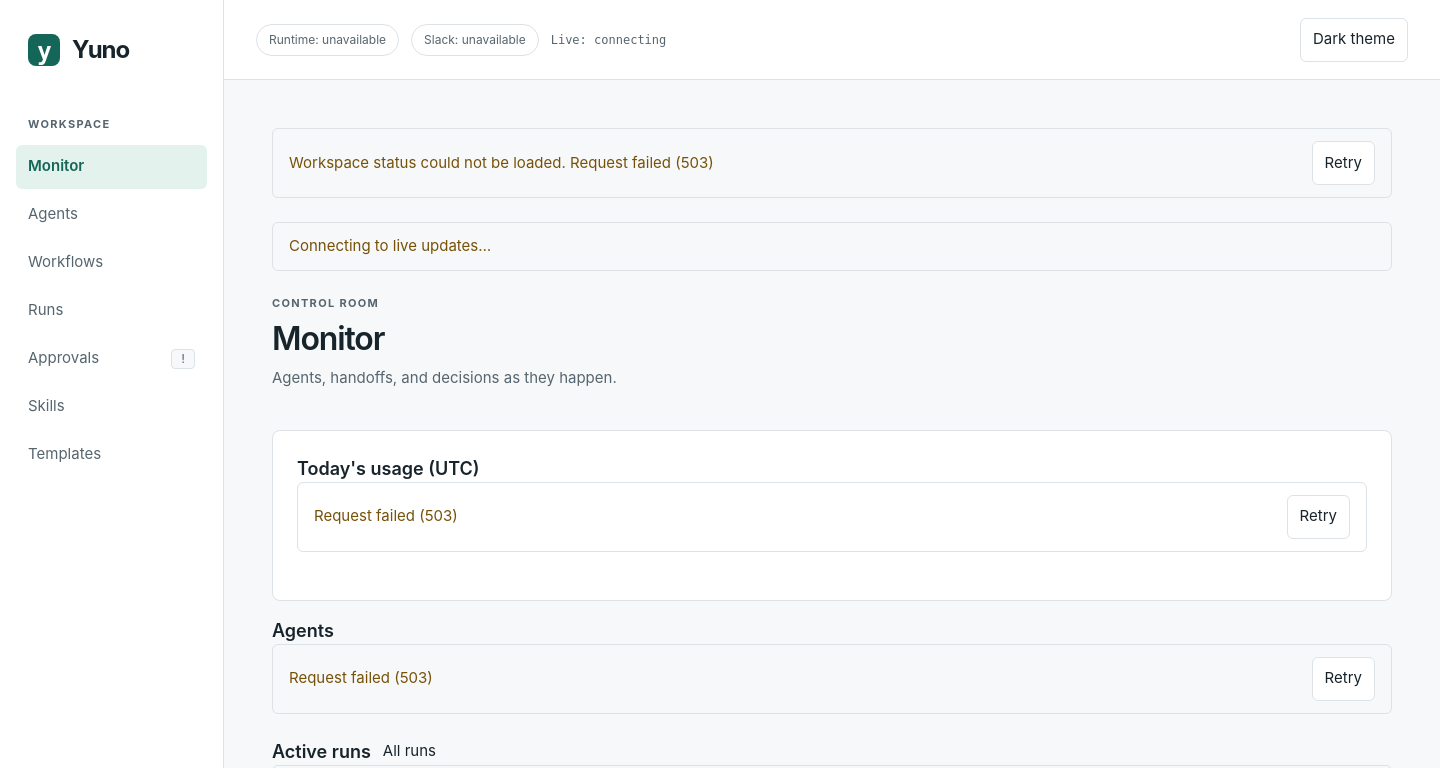
Test case: T15 shell navigation and visible status (R-29, R-31) › shows failed workspace requests and retries after recovery
Expected: the text "Workspace status could not be loaded. Request failed (503)" is shown, [289,152,714,174]
Expected: the text "Runtime: unavailable" is shown, [256,24,399,56]
Click the button "Retry" in the row of "Workspace status could not be loaded.": (1343, 163) [1312,141,1375,185]
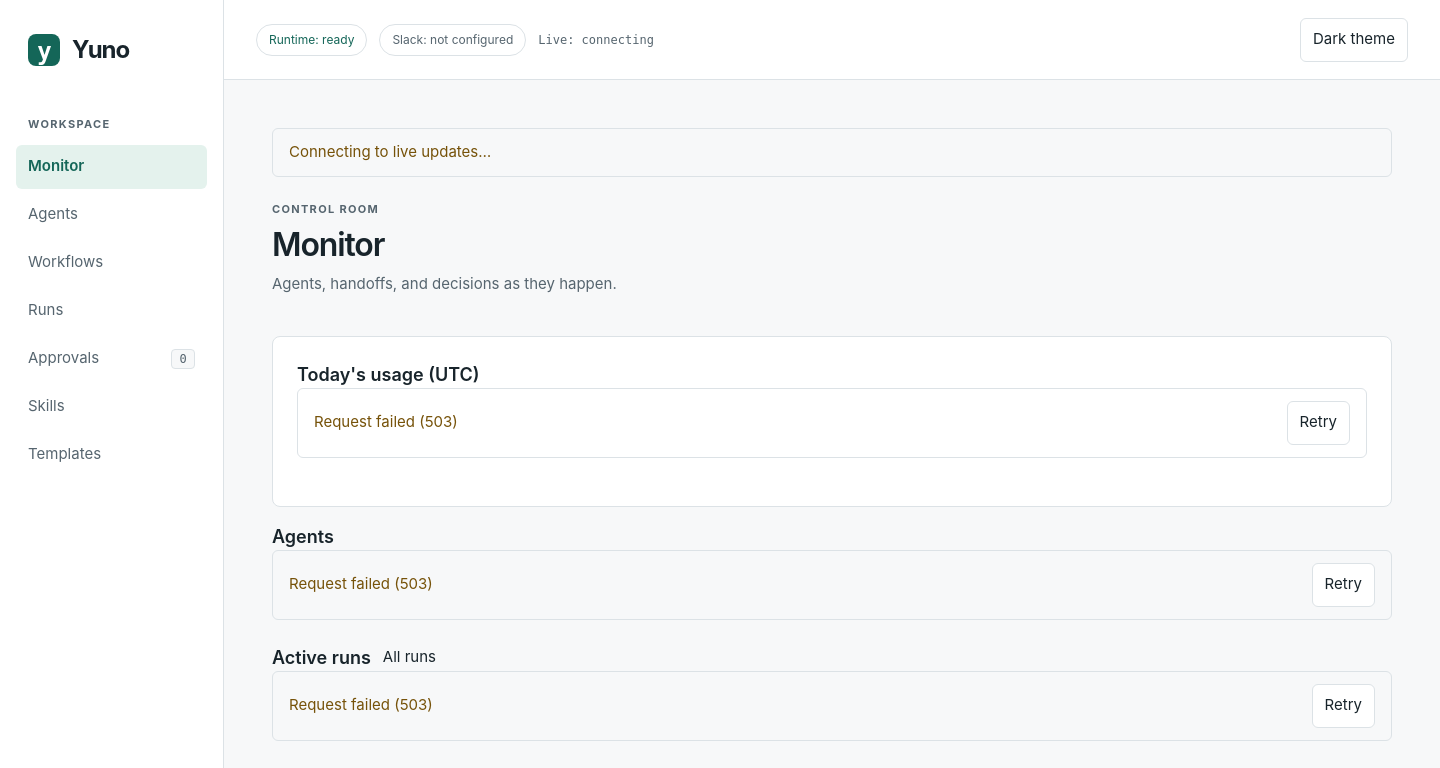
Now the text "Runtime: ready" is shown, box [256,24,367,56]
Now the text "Workspace status could not be loaded" is gone
